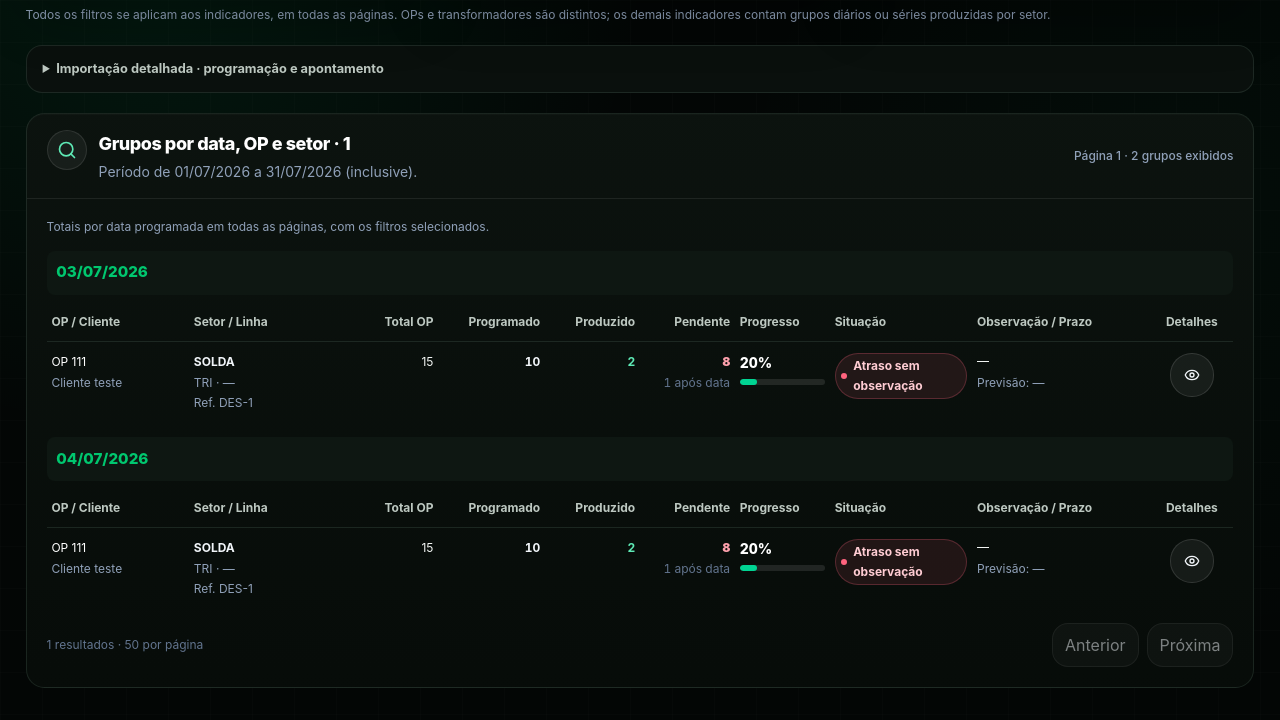
Test: Visão OP — concorrência e contexto › abre a data correta quando a OP e o setor se repetem
(page scrolled)
Click the 2nd button "OP 111" at [69, 548], box [51, 539, 86, 557]
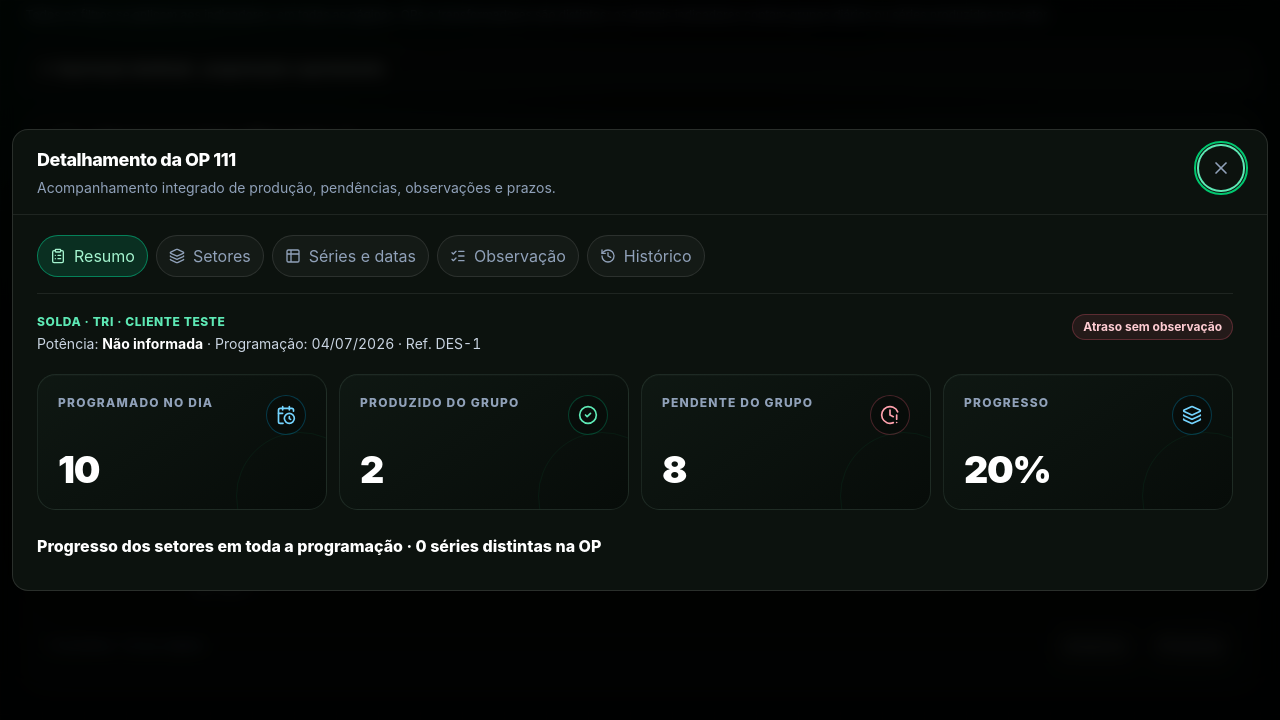
Expected: the dialog shows "04/07/2026", [312, 335, 394, 352]
